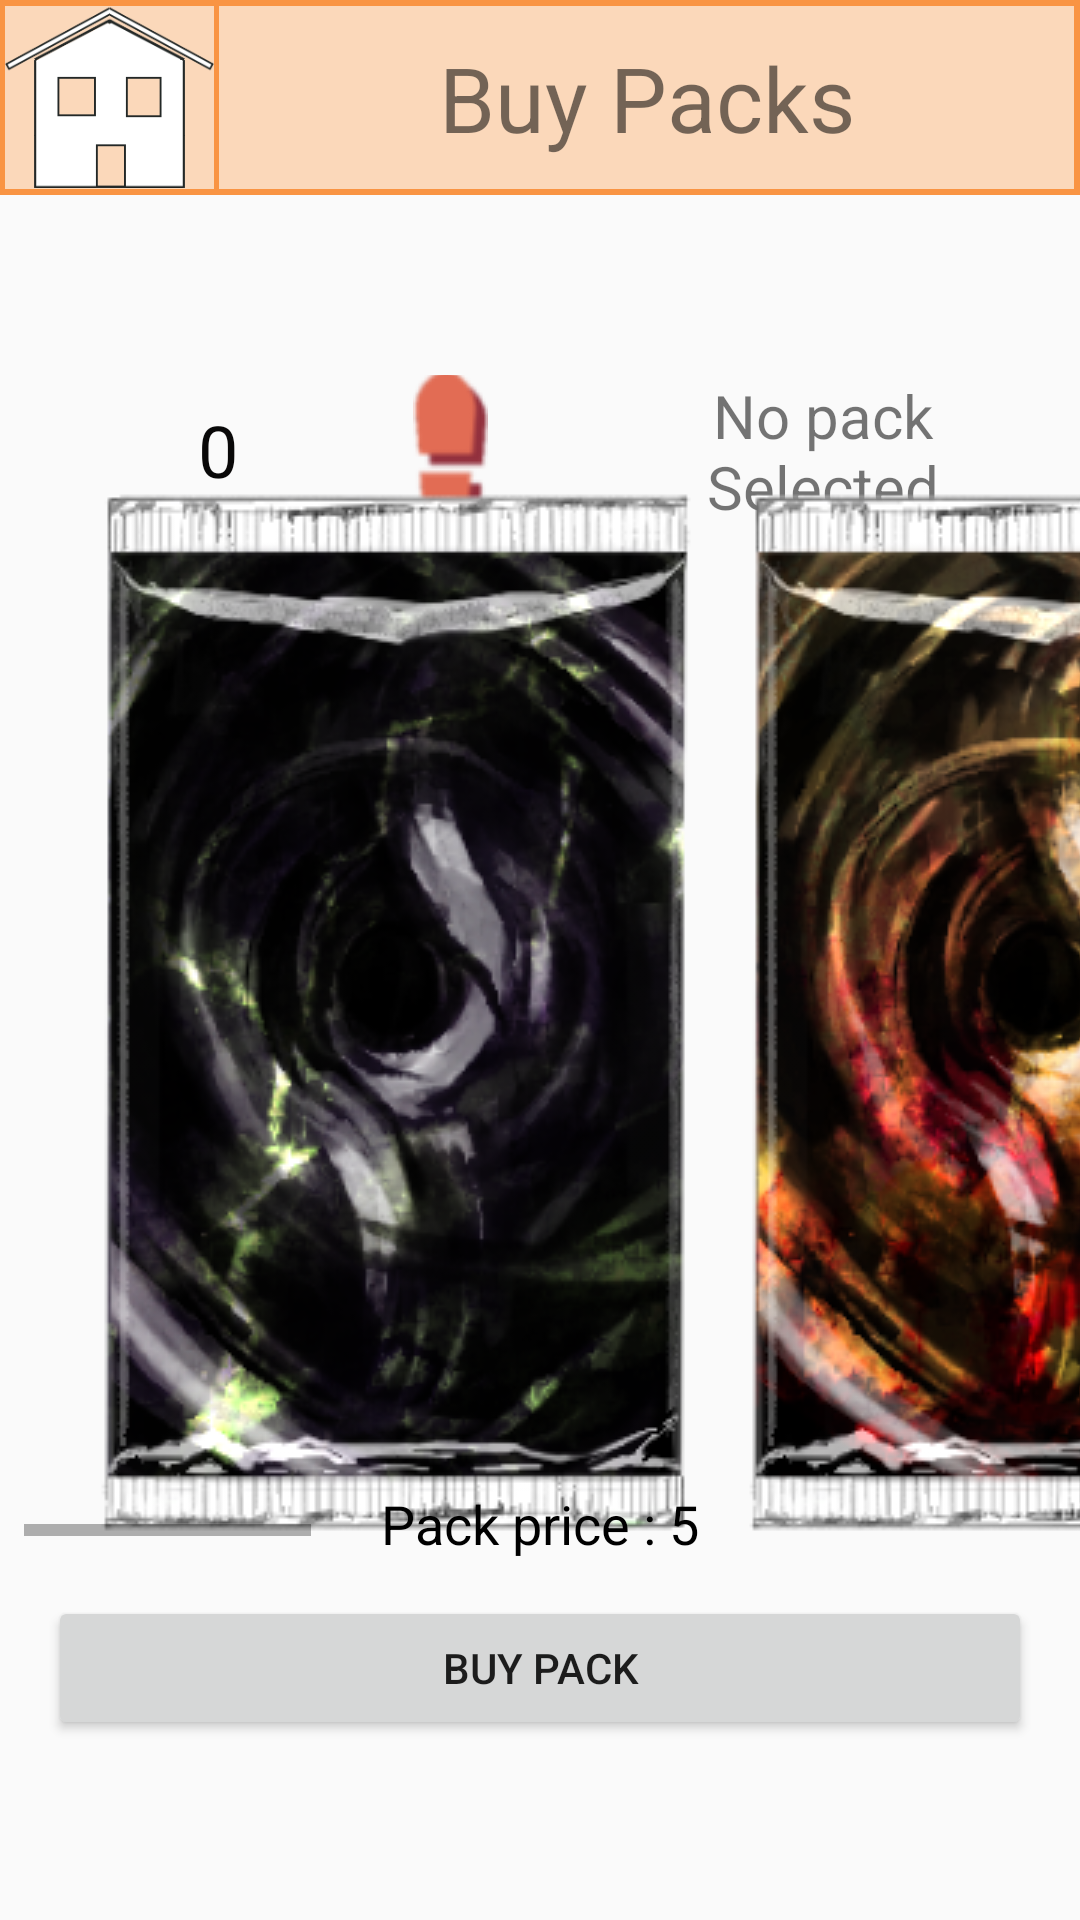

Icons on this 1080px×1920px Android screen, each with the point to tap as (x=x, y=y):
homebutton: (x=109, y=97)
